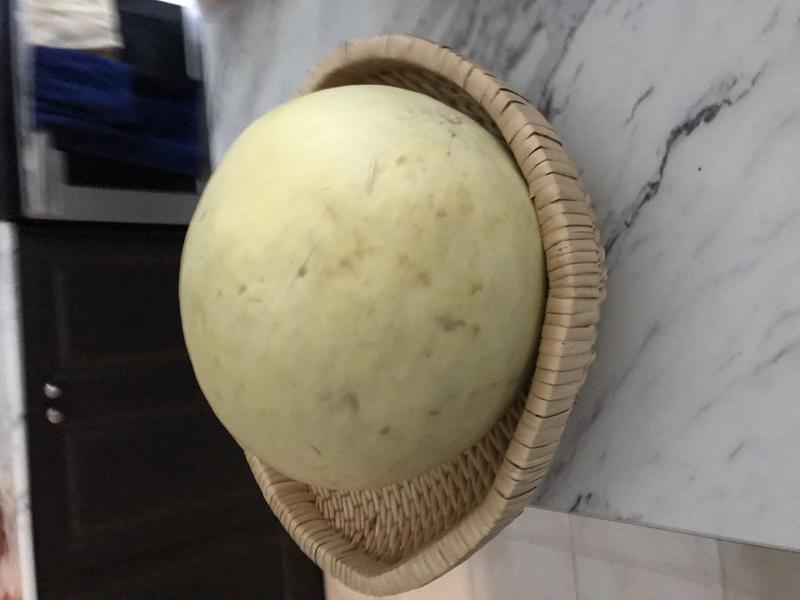honeydew: (170, 73, 568, 508)
